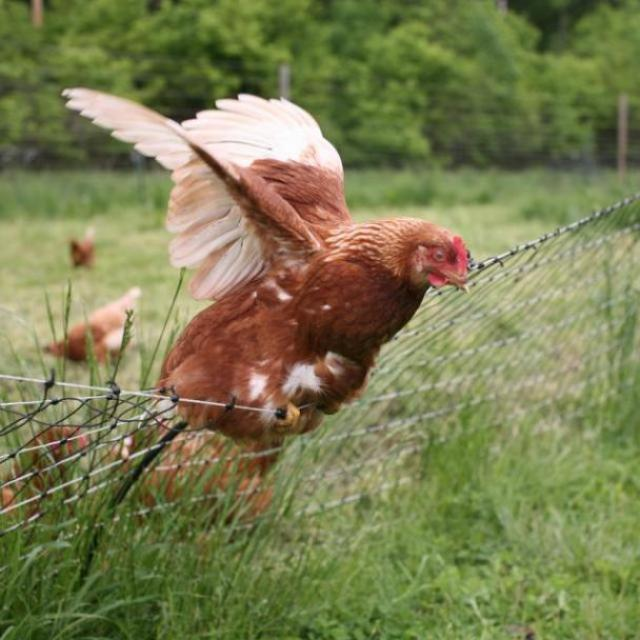Chicken: (72, 75, 459, 449), (45, 290, 140, 365)
